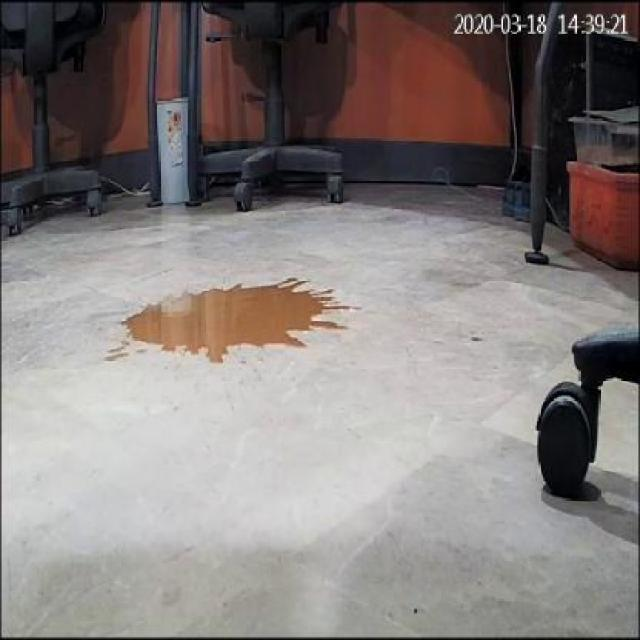spill: (120, 274, 328, 362)
